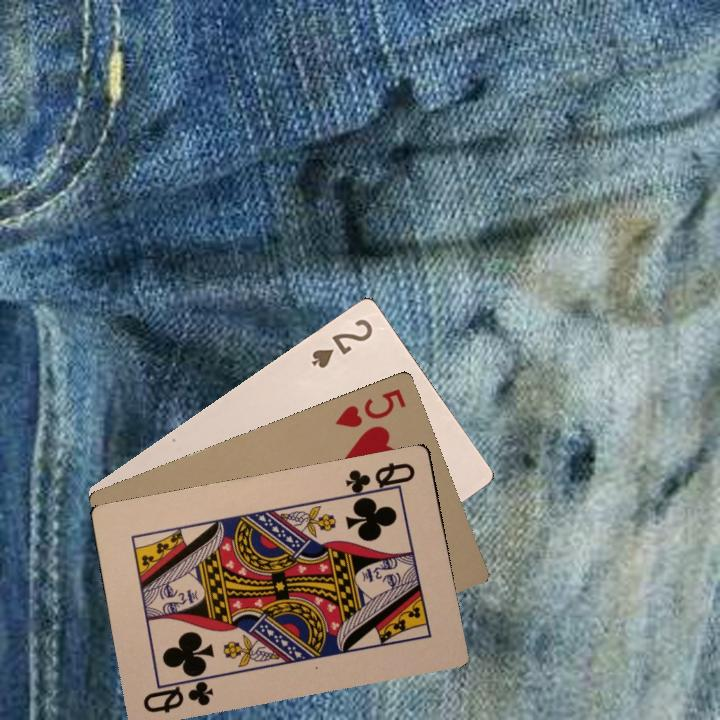2s: (307, 314, 376, 371)
5h: (331, 385, 409, 430)
Qc: (139, 670, 216, 716), (341, 458, 417, 501)
